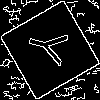Y: (25, 25, 78, 69)
